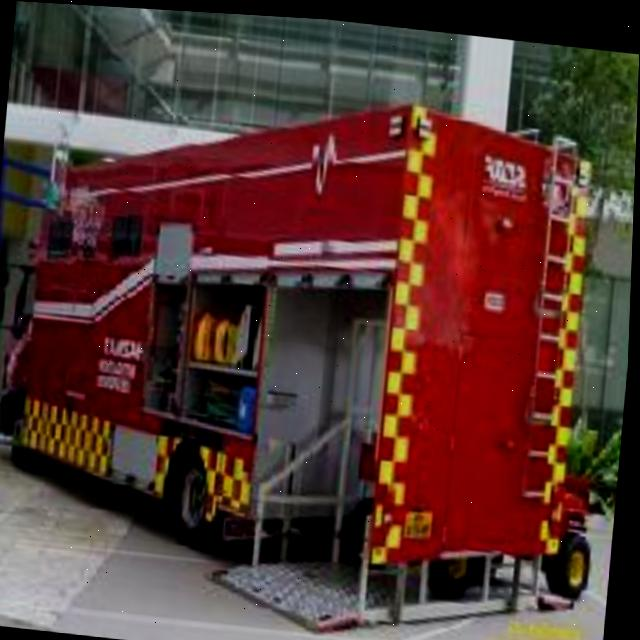emergency: (0, 91, 569, 553)
